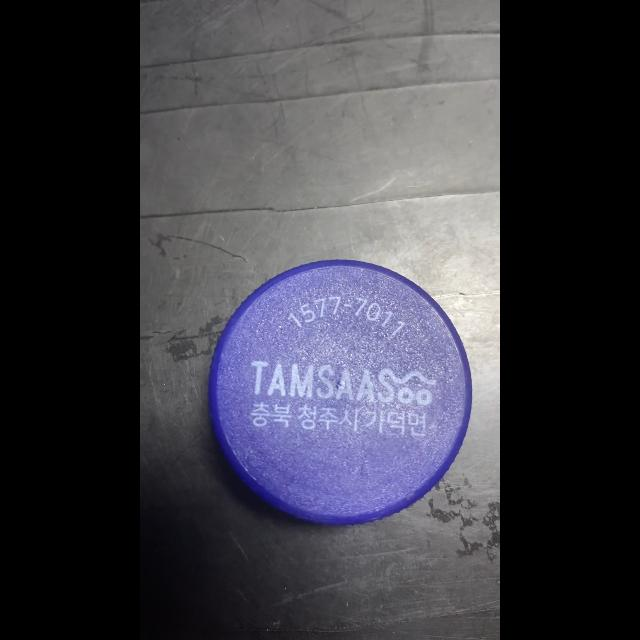plastic_bottle_cap: (207, 253, 475, 527)
